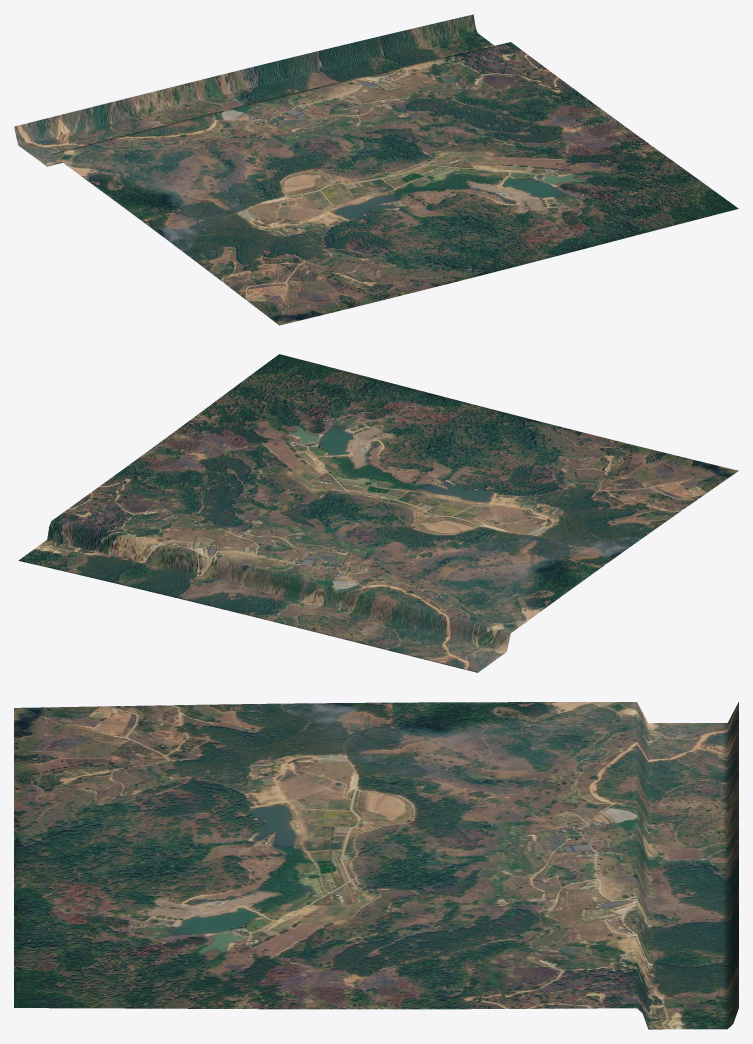
Rendered from terrain_real_T_W04_S02.glb.
3 renders of one model, top to bottom at view 1: azimuth 30°, elevation 25°; view 2: azimuth 150°, elevation 25°; view 3: azimuth 270°, elevation 25°, orthographic. The views are drawn at different scales.
Visible parts, largest first — view 1: Terrain_Real_DEM_T_W04_S02; view 2: Terrain_Real_DEM_T_W04_S02; view 3: Terrain_Real_DEM_T_W04_S02.
Boxes of the visible parts, x1,y1,x2,y2 form: Terrain_Real_DEM_T_W04_S02: (14, 14, 738, 325); Terrain_Real_DEM_T_W04_S02: (18, 354, 738, 672); Terrain_Real_DEM_T_W04_S02: (14, 702, 738, 1029).
Size of the model in its own units: 2000 by 72.89 by 2000.
1 material, 1 textured.
